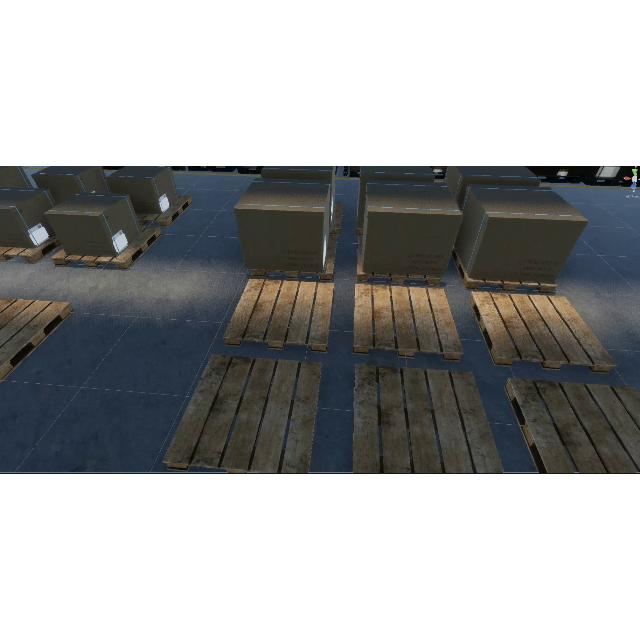wooden_pallet: (468, 291, 617, 375), (50, 225, 163, 271), (451, 247, 557, 295), (357, 235, 442, 287), (253, 235, 338, 281), (137, 195, 194, 229)
